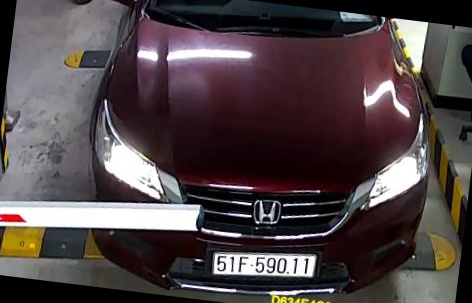plate: (208, 246, 319, 285)
